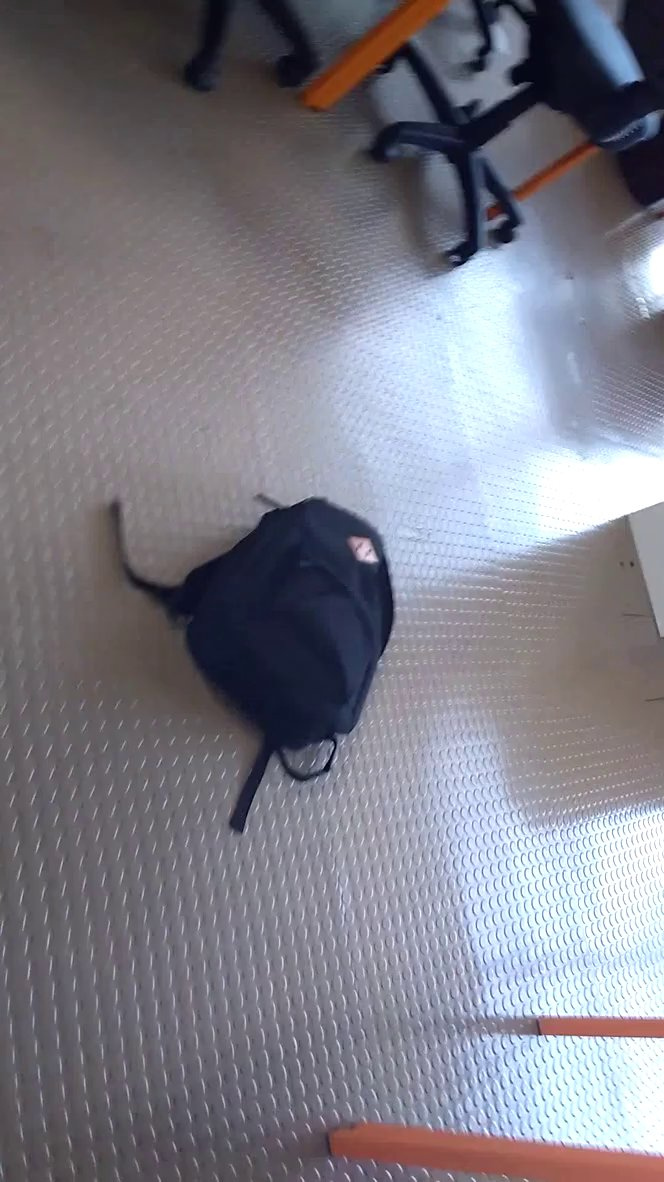bag: (101, 472, 406, 844)
